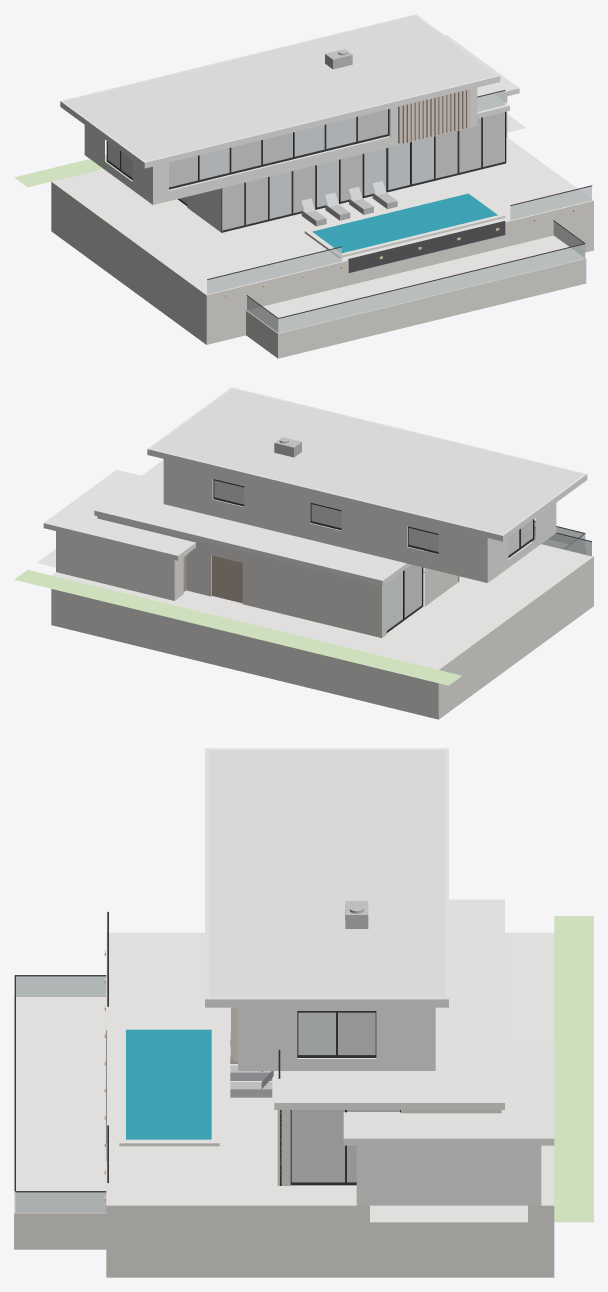
File: mansion_w110a.glb
The picture shows the model from 3 angles, top to bottom: view 1: azimuth 30°, elevation 25°; view 2: azimuth 150°, elevation 25°; view 3: azimuth 270°, elevation 25°; orthographic projection. The views are drawn at different scales.
Parts seen in each view (by area): view 1: mansion_w110a_Site, mansion_w110a_Roof, mansion_w110a_Walls2, mansion_w110a_WindowsLit, mansion_w110a_Clear, mansion_w110a_Glass, mansion_w110a_Trim, mansion_w110a_Walls, mansion_w110a_Water, mansion_w110a_Frames, mansion_w110a_Walls3, mansion_w110a_Accent (+2 smaller); view 2: mansion_w110a_Walls2, mansion_w110a_Roof, mansion_w110a_Walls, mansion_w110a_Trim, mansion_w110a_Site, mansion_w110a_Lawn, mansion_w110a_WindowsLit, mansion_w110a_Doors, mansion_w110a_Frames, mansion_w110a_Glass, mansion_w110a_Clear, mansion_w110a_Details; view 3: mansion_w110a_Site, mansion_w110a_Roof, mansion_w110a_Walls2, mansion_w110a_Trim, mansion_w110a_Walls, mansion_w110a_Lawn, mansion_w110a_Water, mansion_w110a_WindowsLit, mansion_w110a_Clear, mansion_w110a_Frames, mansion_w110a_Details, mansion_w110a_Glass.
Part boxes in pixels (x1,y1,x2,y2): mansion_w110a_Site: (52,114,593,332); mansion_w110a_Roof: (64,16,496,160); mansion_w110a_Walls2: (51,96,593,358); mansion_w110a_WindowsLit: (121,109,504,230); mansion_w110a_Clear: (207,91,591,333); mansion_w110a_Glass: (108,117,433,218); mansion_w110a_Trim: (60,14,519,190); mansion_w110a_Walls: (84,87,477,204); mansion_w110a_Water: (312,193,497,253); mansion_w110a_Frames: (106,90,592,318); mansion_w110a_Walls3: (398,89,470,143); mansion_w110a_Accent: (348,221,505,272); mansion_w110a_Walls2: (51,516,593,719); mansion_w110a_Roof: (151,389,583,533); mansion_w110a_Walls: (56,459,556,600); mansion_w110a_Trim: (43,387,587,595); mansion_w110a_Site: (37,536,593,669); mansion_w110a_Lawn: (14,569,461,685); mansion_w110a_WindowsLit: (214,480,532,617); mansion_w110a_Doors: (183,555,242,603); mansion_w110a_Frames: (213,479,591,632); mansion_w110a_Glass: (386,530,519,630); mansion_w110a_Clear: (531,521,591,556); mansion_w110a_Details: (274,437,301,457); mansion_w110a_Site: (15,932,554,1222); mansion_w110a_Roof: (209,750,444,997); mansion_w110a_Walls2: (14,996,554,1277); mansion_w110a_Trim: (205,748,554,1145); mansion_w110a_Walls: (238,1007,541,1205); mansion_w110a_Lawn: (554,916,593,1222); mansion_w110a_Water: (126,1029,211,1139); mansion_w110a_WindowsLit: (291,1012,399,1182); mansion_w110a_Clear: (15,976,106,1213); mansion_w110a_Frames: (14,911,400,1192); mansion_w110a_Details: (230,901,368,1097); mansion_w110a_Glass: (298,1012,335,1054).
Bounding box in the file's own units: 111 × 42.4 × 88.
